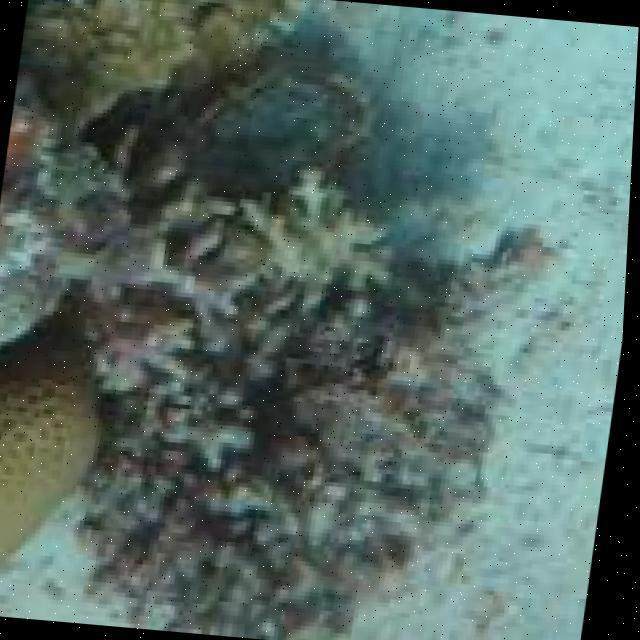Bleached Coral: (224, 166, 408, 322)
